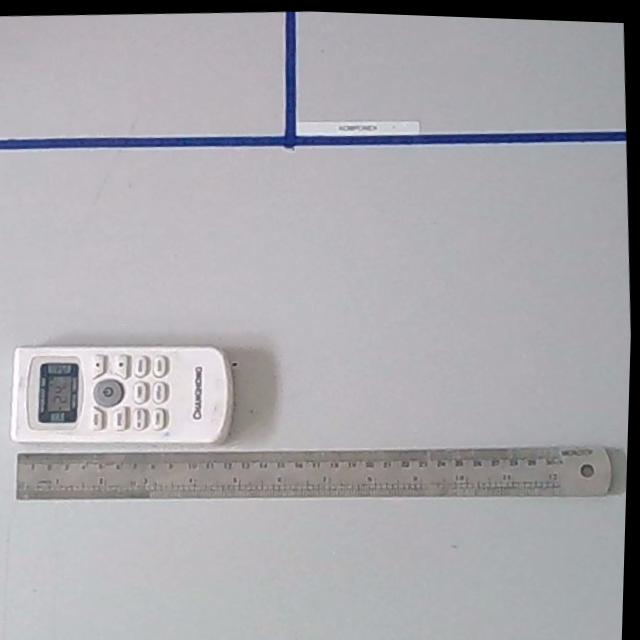remote: (9, 333, 238, 456)
ruler: (15, 422, 619, 525)
